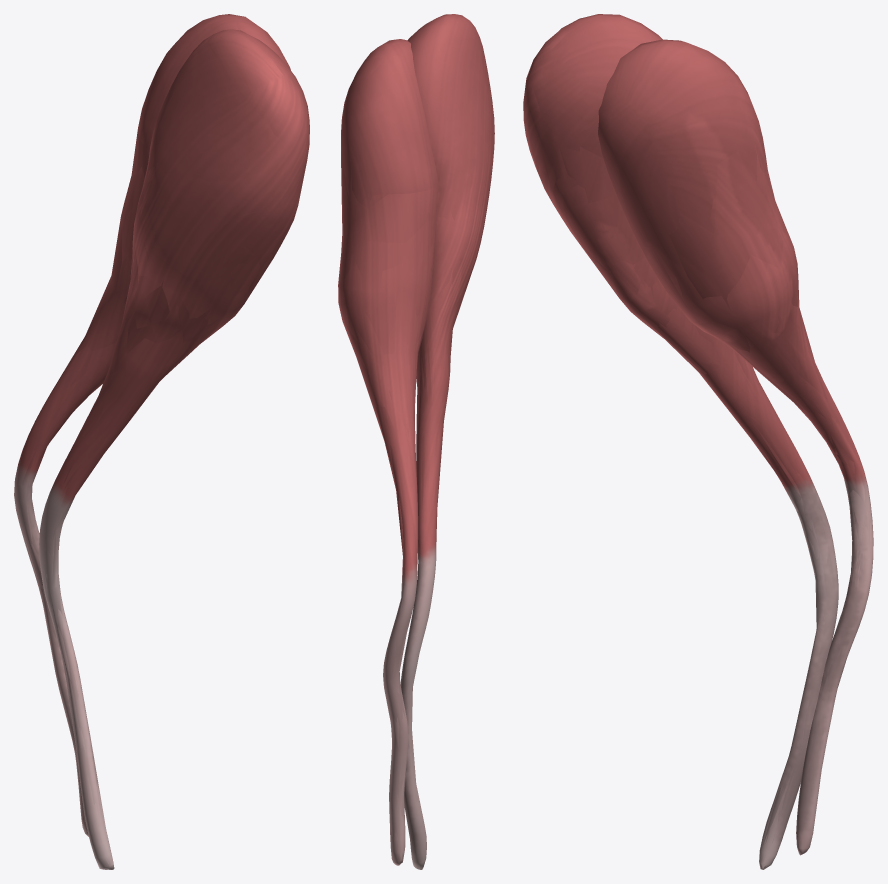
Rendered from Икроножная мышца L.fbx.
The picture shows the model from 3 angles, left to right: view 1: azimuth 30°, elevation 25°; view 2: azimuth 150°, elevation 25°; view 3: azimuth 270°, elevation 25°; orthographic projection. The views are drawn at different scales.
Visible parts, largest first — view 1: Икроножная мышца L, Икроножная мышца L high, Икроножная мышца L low; view 2: Икроножная мышца L, Икроножная мышца L high, Икроножная мышца L low; view 3: Икроножная мышца L, Икроножная мышца L high, Икроножная мышца L low.
Boxes of the visible parts, box(x1,y1,x2,y2) form: Икроножная мышца L: box(18, 14, 309, 869); Икроножная мышца L high: box(14, 14, 309, 869); Икроножная мышца L low: box(18, 15, 309, 849); Икроножная мышца L: box(338, 14, 494, 869); Икроножная мышца L high: box(338, 14, 494, 869); Икроножная мышца L low: box(338, 39, 474, 847); Икроножная мышца L: box(523, 14, 873, 869); Икроножная мышца L high: box(523, 14, 872, 869); Икроножная мышца L low: box(529, 41, 867, 869).
Size of the model in its own units: 0.2009 by 1.01 by 0.3669.
